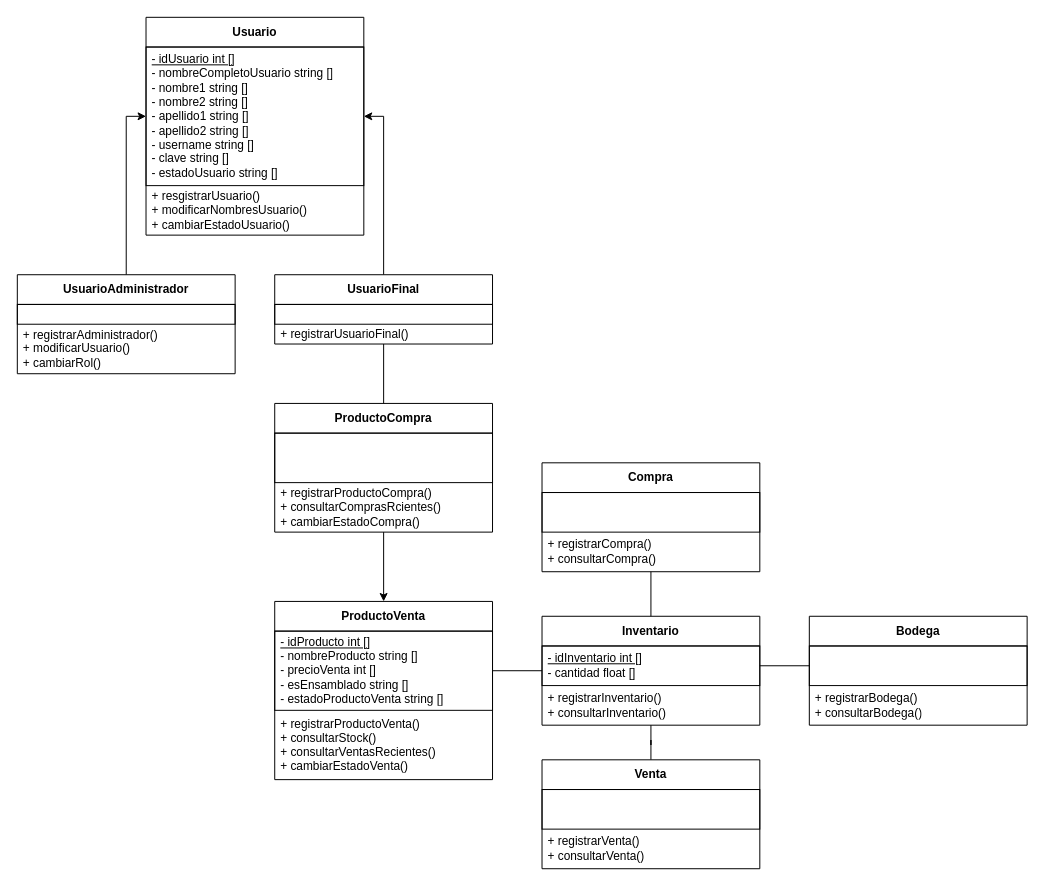
This 1044x886 diagram has some shape labels left out. The centre of each missing label's shape, as x and y in pixels:
- idAdmon int []: point 125,313
- idBodega int [] - nombreBodega string []: point 917,665
- idCompra int [] - fechaCompra DateTime: point 650,512
- idProductoCompra int [] - precioCompra int [] - estadoProductoCompra string []: point 383,457
- idUsuarioFinal int []: point 383,313
- idVenta int [] - fechaVenta DateTime: point 650,809
